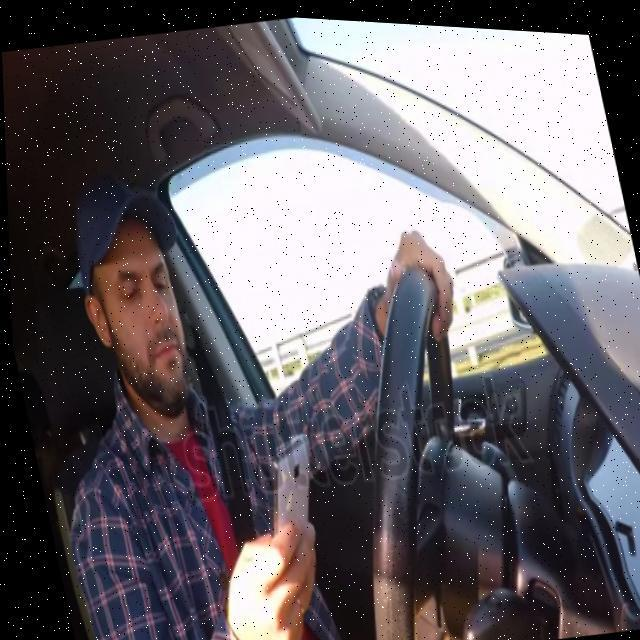PhoneCall: (249, 422, 323, 548)
